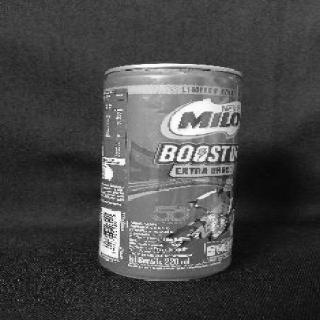alumunium_can: (98, 64, 242, 281)
